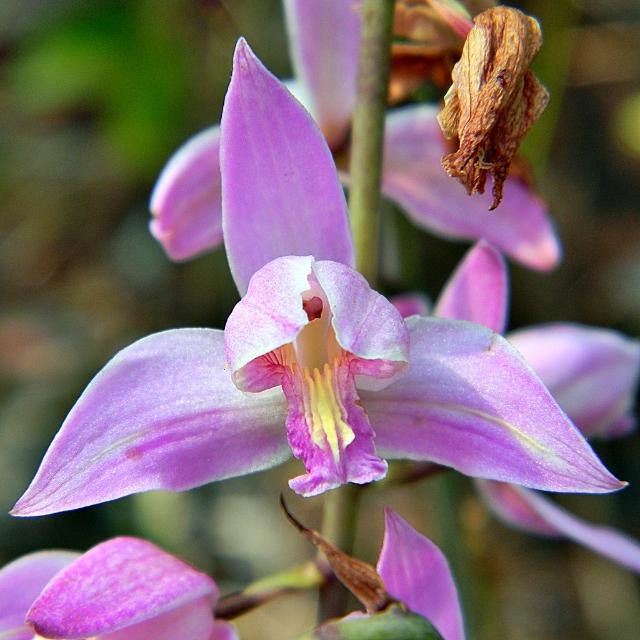Flower: (5, 35, 629, 519)
